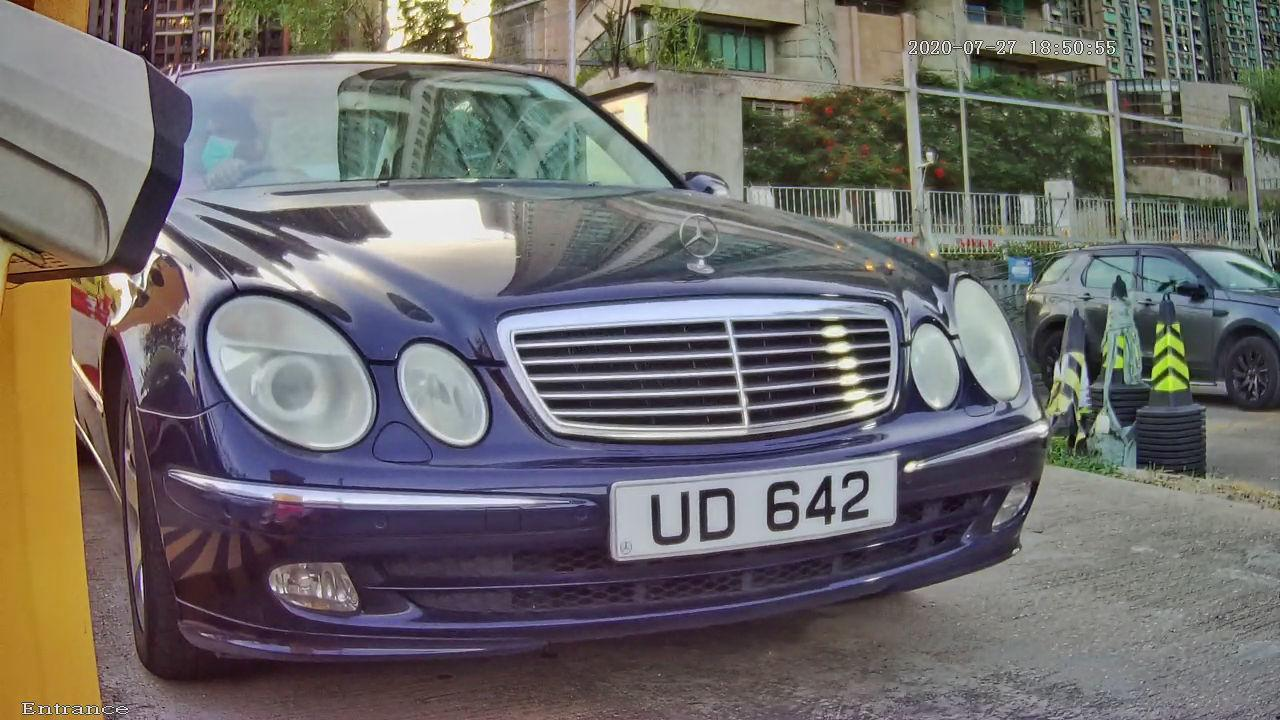privatecar: (52, 17, 1138, 679)
